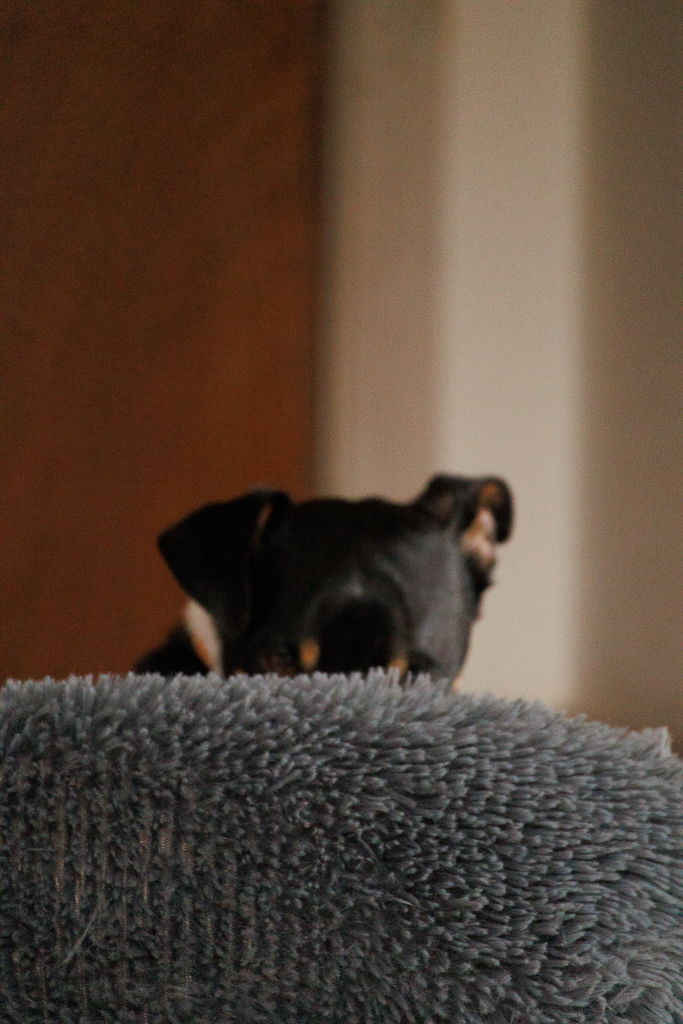Dog: (98, 445, 532, 718)
